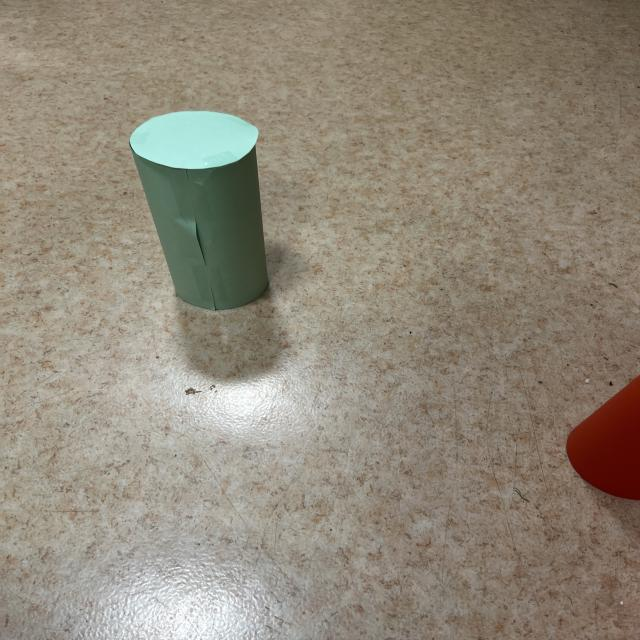meta: (130, 111, 268, 310)
